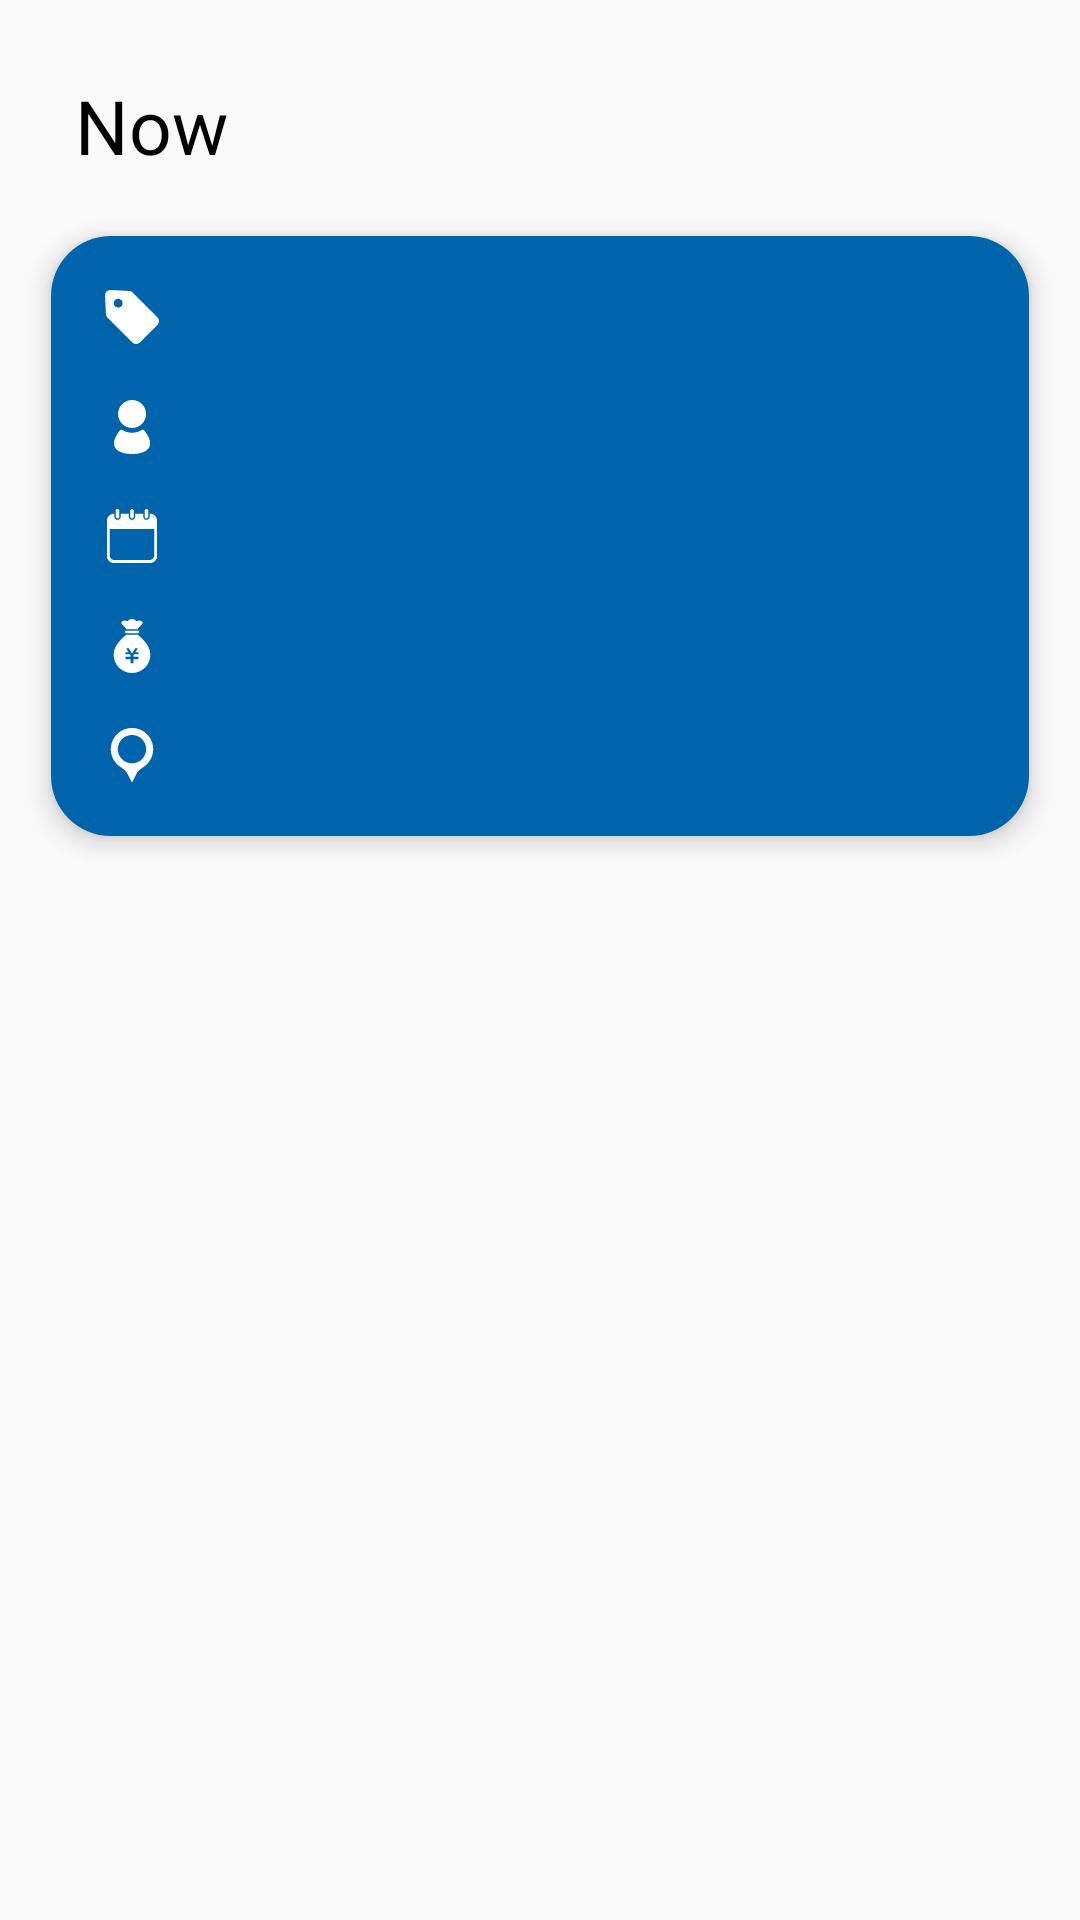

Screen size 1080 x 1920. Icon name, then its center in pixels as [x,y]:
calender: [132,536]
location: [132,755]
man: [132,427]
money: [132,646]
tag: [132,317]
